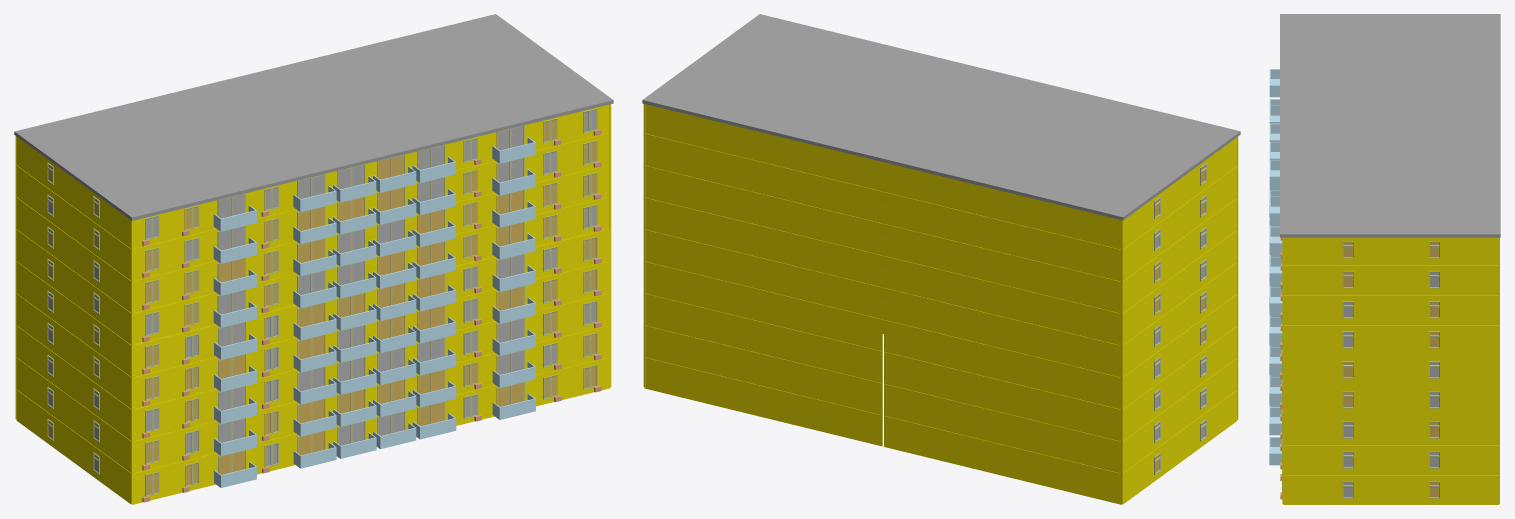
The picture shows the model from 3 angles, left to right: view 1: azimuth 30°, elevation 25°; view 2: azimuth 150°, elevation 25°; view 3: azimuth 270°, elevation 25°; orthographic projection. The views are drawn at different scales.
Visible parts, largest first — view 1: W281; view 2: W281; view 3: W281.
Part boxes in pixels (x1=…): W281: x1=14, y1=14, x2=613, y2=504; W281: x1=642, y1=14, x2=1240, y2=504; W281: x1=1269, y1=14, x2=1500, y2=504.
Bounding box in the file's own units: 4905 × 2813 × 2175.
